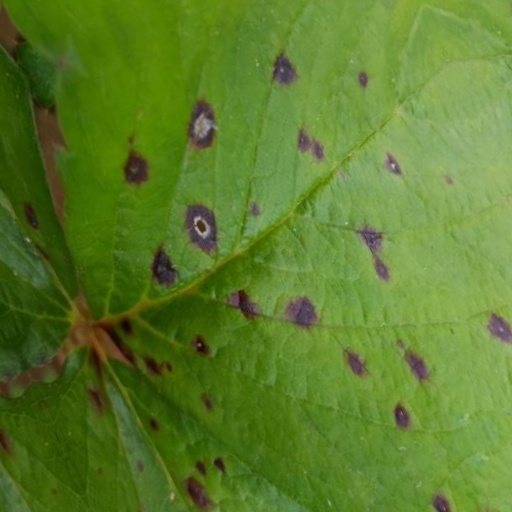Leaf Spot: (312, 266, 511, 511), (392, 0, 511, 270)
